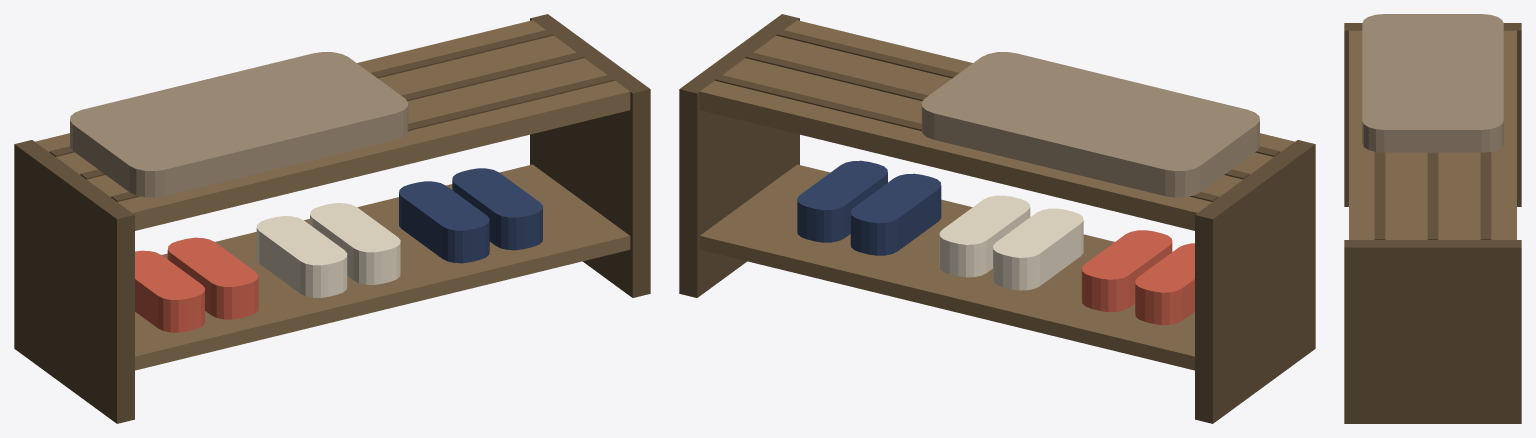
File: bench.glb
3 renders of one model, left to right at view 1: azimuth 30°, elevation 25°; view 2: azimuth 150°, elevation 25°; view 3: azimuth 270°, elevation 25°, orthographic. The views are drawn at different scales.
Parts seen in each view (by area): view 1: bench_Body; view 2: bench_Body; view 3: bench_Body.
Part boxes in pixels (bbox=[...]): bench_Body: bbox=[14, 14, 650, 423]; bench_Body: bbox=[679, 14, 1315, 423]; bench_Body: bbox=[1344, 14, 1521, 423].
Size of the model in its own units: 1.2 by 0.5 by 0.4.
